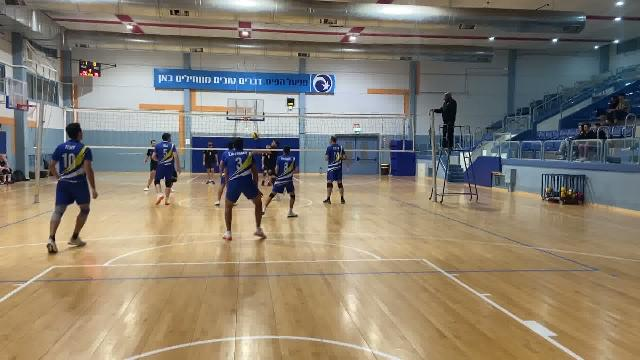ball: (251, 131, 261, 142)
